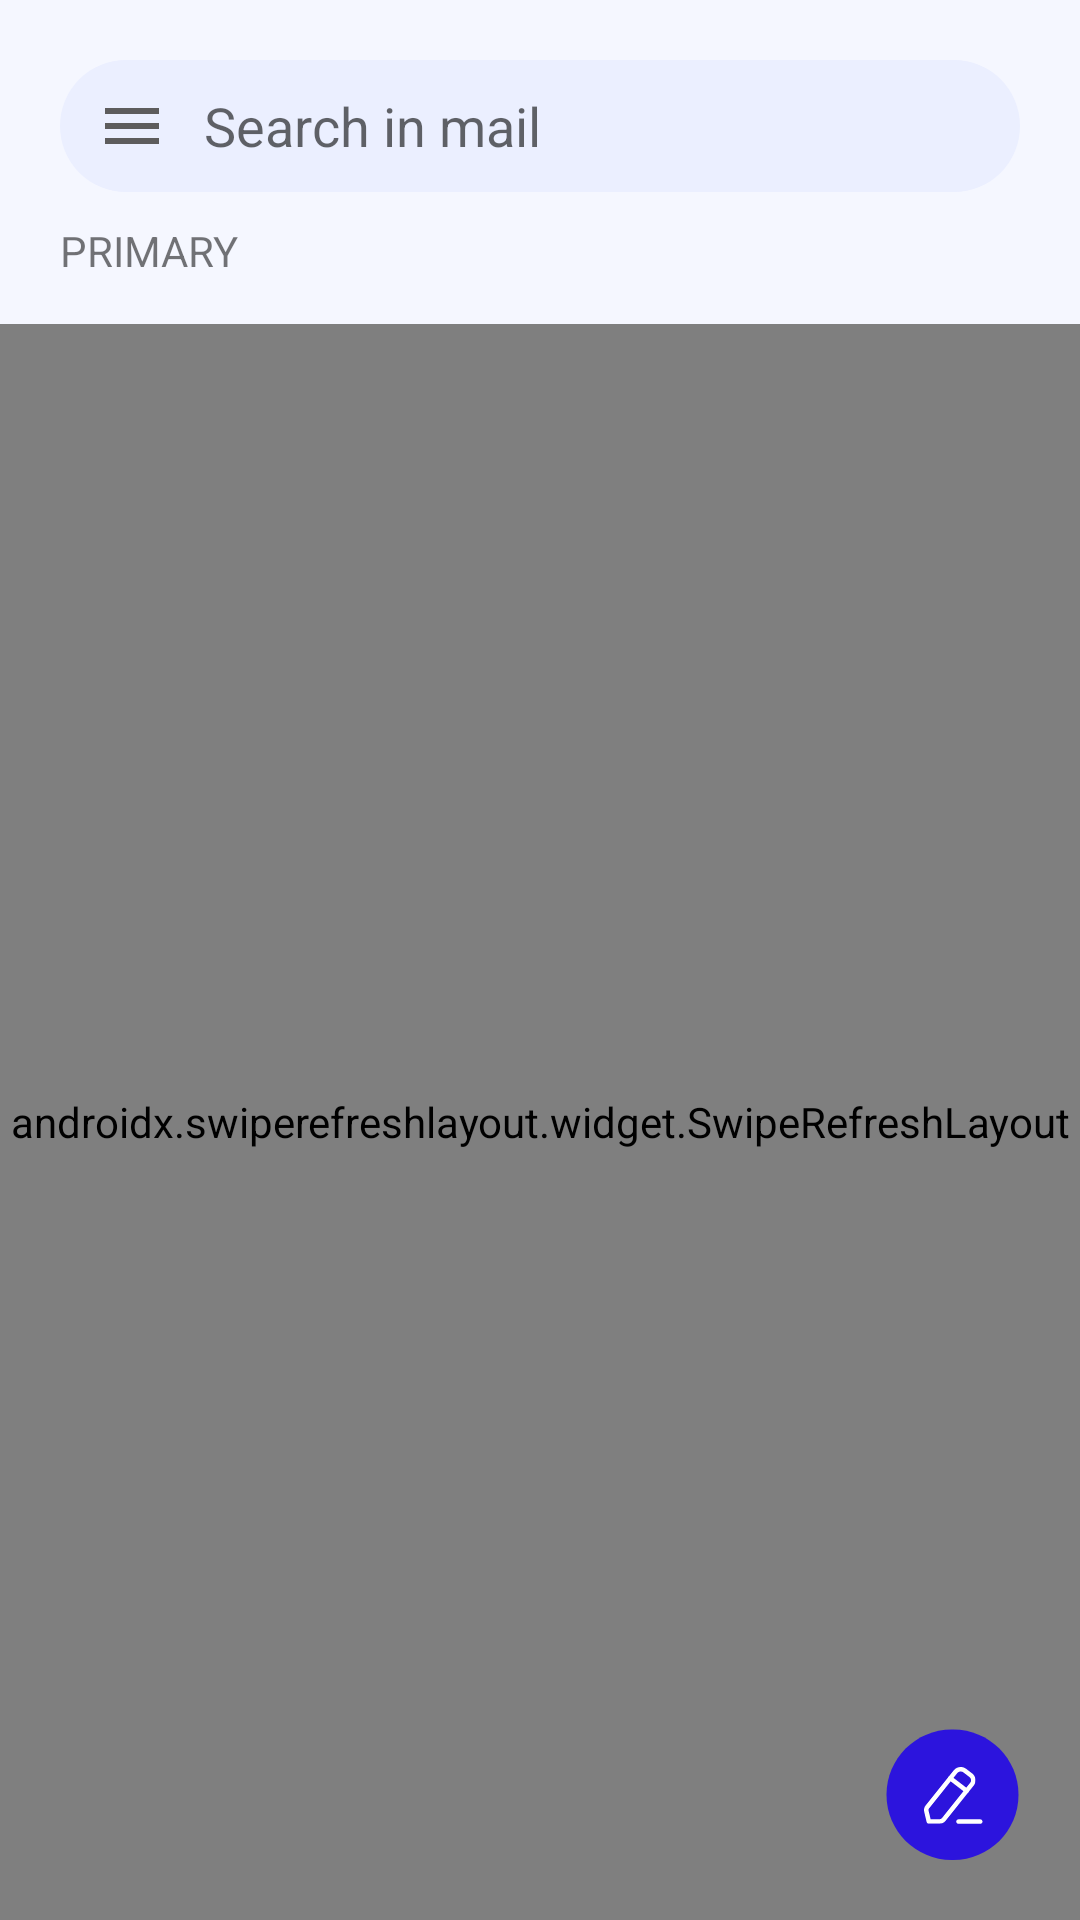

Icon bounding boxes for this 1080 x 1920 phone screenshot, format (x1, y1, x2, y2):
menu: (105, 108, 159, 144)
pencil round: (886, 1729, 1019, 1860)
